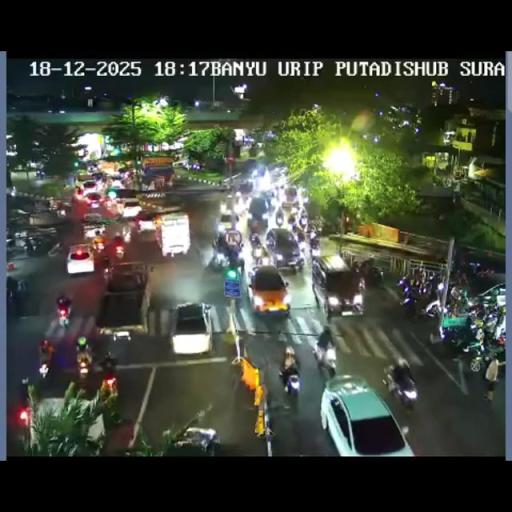Car: (319, 375, 414, 454), (27, 395, 104, 454), (95, 262, 152, 336), (310, 253, 364, 317), (169, 301, 213, 354), (248, 264, 290, 318), (264, 227, 302, 272), (154, 213, 190, 256), (168, 426, 219, 456), (66, 244, 94, 274), (248, 194, 271, 222), (82, 218, 109, 239), (216, 208, 235, 236), (268, 166, 289, 190), (136, 210, 158, 232), (119, 198, 142, 218), (281, 186, 299, 210), (237, 180, 254, 198), (85, 192, 103, 207), (82, 180, 98, 194)
Motorcycle: (438, 314, 480, 356), (448, 260, 490, 290), (468, 342, 497, 374), (398, 278, 422, 316), (440, 288, 470, 318), (278, 360, 301, 395), (313, 338, 337, 370), (98, 356, 118, 394), (359, 262, 384, 288), (35, 346, 54, 380), (206, 247, 229, 272), (248, 232, 266, 262), (76, 348, 93, 378), (422, 296, 443, 320), (425, 272, 443, 298), (6, 276, 18, 311), (98, 247, 114, 272), (467, 302, 487, 322), (226, 251, 244, 272), (6, 234, 22, 256), (308, 232, 321, 258), (287, 211, 303, 232), (307, 217, 324, 236), (110, 237, 124, 260), (57, 306, 70, 329), (472, 325, 486, 346), (23, 235, 37, 255), (20, 375, 30, 402), (120, 221, 132, 241), (294, 226, 306, 245), (274, 206, 284, 226), (250, 218, 260, 236), (56, 203, 66, 218), (220, 179, 231, 191), (35, 168, 45, 178)
